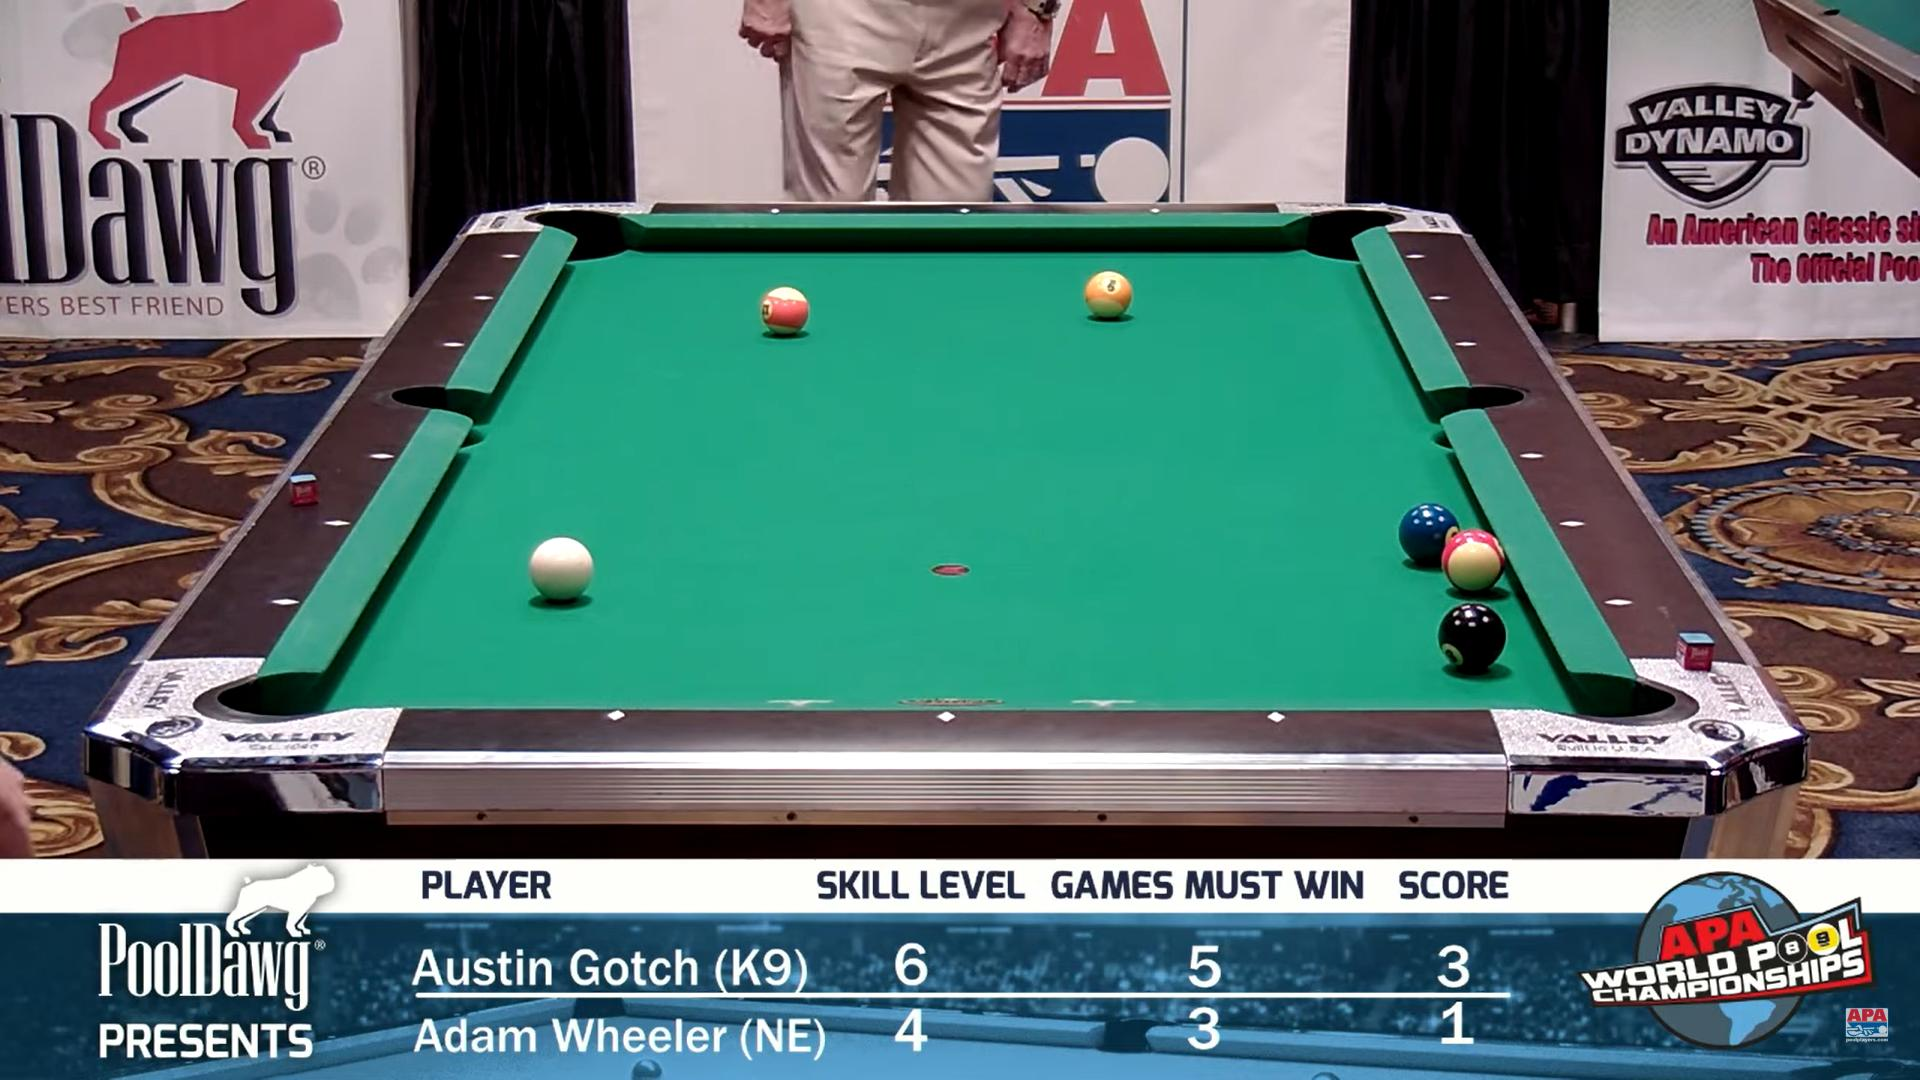Black: (1437, 603, 1506, 670)
Cue: (527, 537, 593, 604)
Dot: (327, 516, 349, 530), (372, 448, 394, 463), (443, 338, 465, 352), (473, 290, 496, 305), (500, 248, 522, 262), (953, 203, 976, 218), (1145, 203, 1167, 218), (1404, 249, 1427, 264), (1520, 448, 1543, 463), (1607, 595, 1630, 609), (1265, 709, 1287, 724), (935, 709, 957, 724), (605, 708, 628, 723), (276, 595, 298, 608), (1428, 291, 1451, 305), (1455, 338, 1477, 351), (765, 204, 786, 218), (1561, 517, 1582, 530)
Solid: (1399, 502, 1461, 564)
Striped: (1441, 529, 1505, 592), (761, 286, 808, 338), (1084, 270, 1131, 318)
